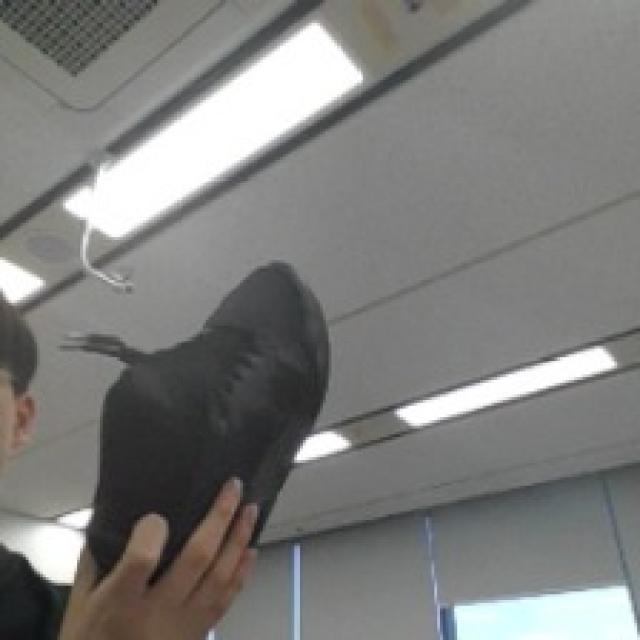shoe: (48, 235, 360, 618)
